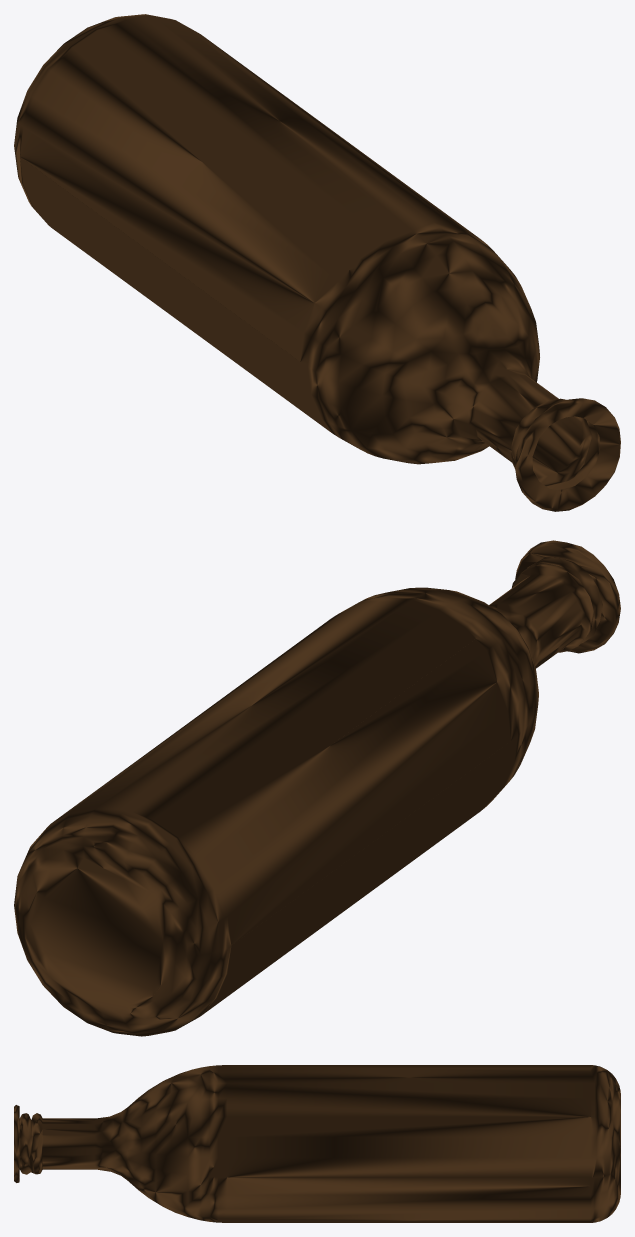
File: model_align.obj
The picture shows the model from 3 angles, top to bottom: view 1: azimuth 30°, elevation 25°; view 2: azimuth 150°, elevation 25°; view 3: azimuth 270°, elevation 25°; orthographic projection. The views are drawn at different scales.
Size of the model in its own units: 0.0358 by 0.0358 by 0.1372.
